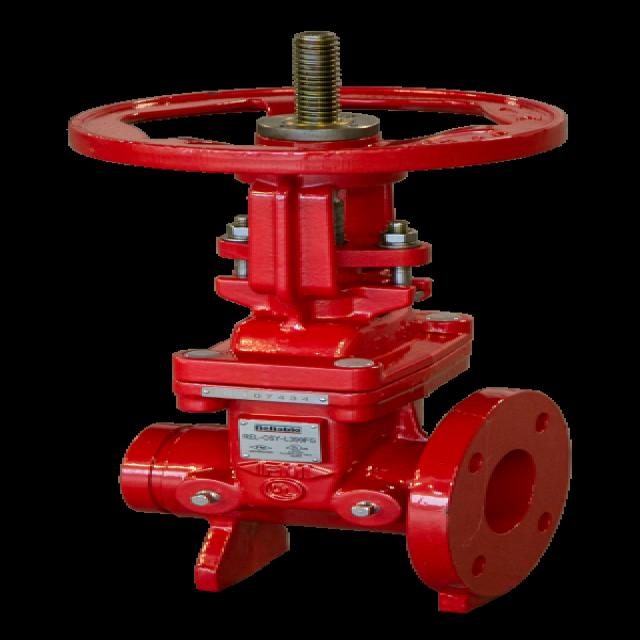Wheel Handle Valve Threaded: (45, 17, 598, 195)
